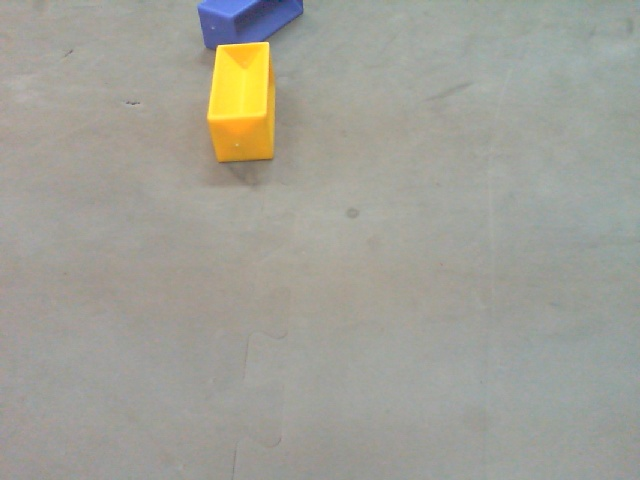BlueSample: (199, 1, 304, 49)
YellowSample: (206, 38, 276, 169)
